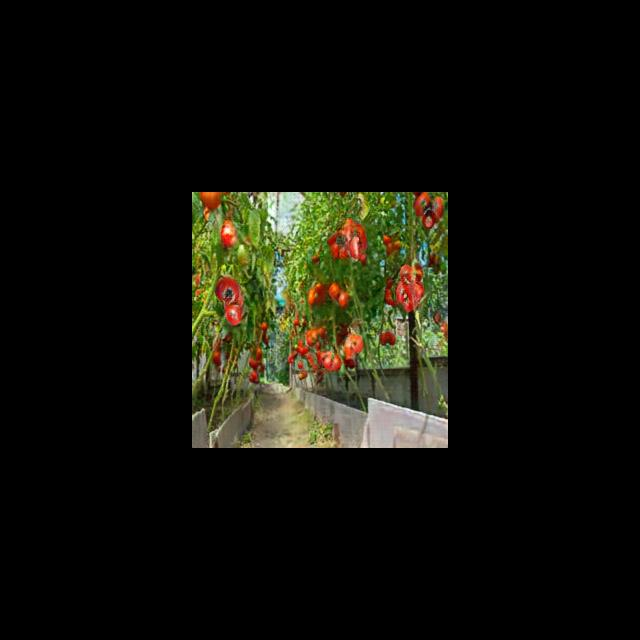tomato: (213, 278, 239, 304), (393, 282, 411, 302), (413, 194, 430, 214)
